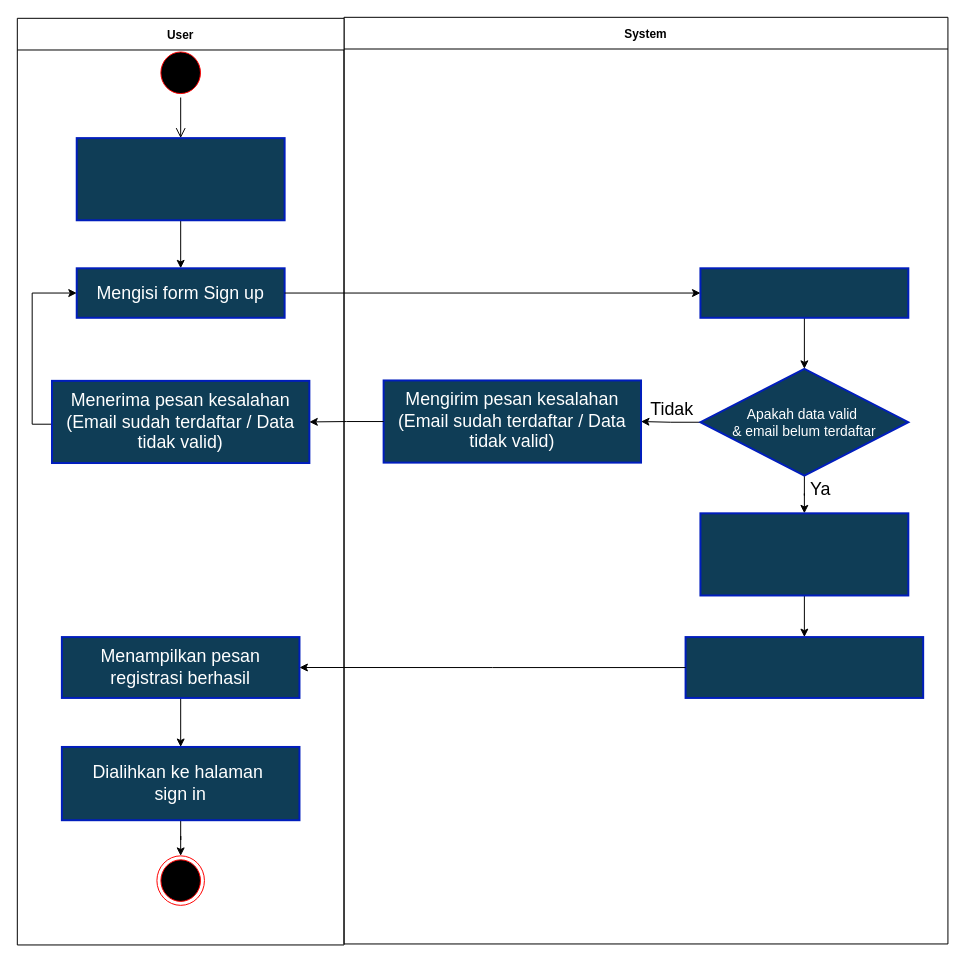
The diagram is 965 pixels wide and 962 high, and some of its shapes have lost their labels. The shapes that lost their labels are listed below. From the top down, each one's centre as x and y in pixels, then its label:
At (180,179): "Membuka halaman Sign up".
At (804,292): "Memvalidasi input user".
At (804,554): "Membuat akun user (Supabase Auth)".
At (804,667): "Mengirim pesan registrasi berhasil".
